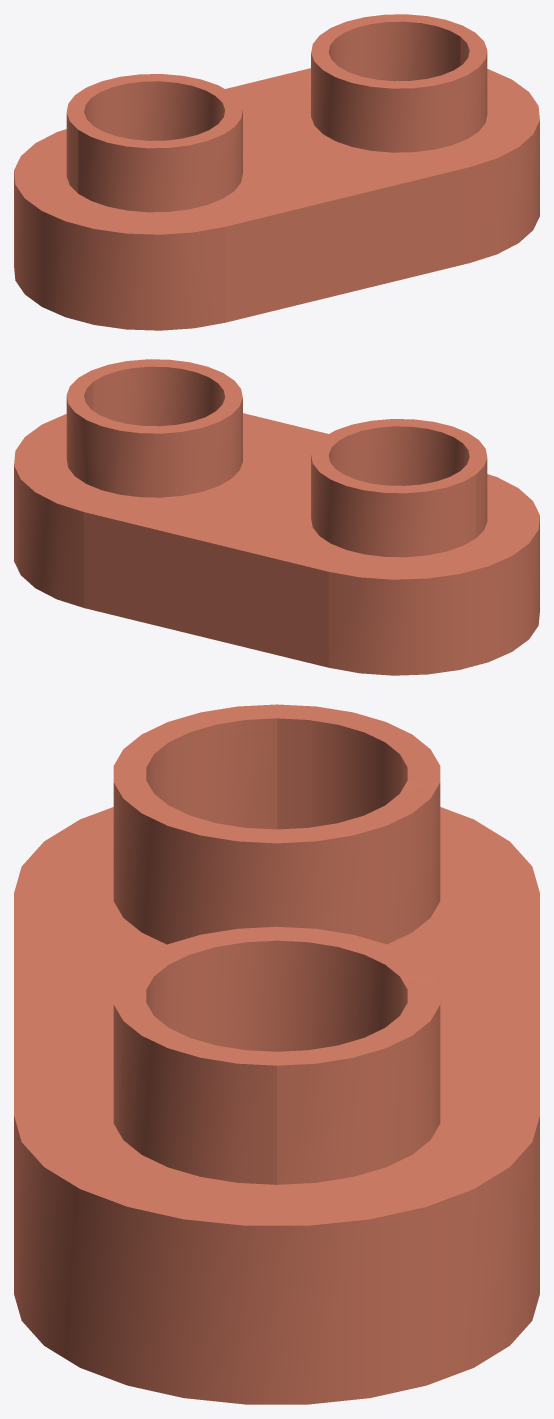
The picture shows the model from 3 angles, top to bottom: view 1: azimuth 30°, elevation 25°; view 2: azimuth 150°, elevation 25°; view 3: azimuth 270°, elevation 25°; orthographic projection. The views are drawn at different scales.
Parts seen in each view (by area): view 1: [pivoted]; view 2: [pivoted]; view 3: [pivoted].
Boxes of the visible parts, x1,y1,x2,y2 form: [pivoted]: (14, 14, 539, 330); [pivoted]: (14, 359, 539, 675); [pivoted]: (14, 704, 539, 1404).
Bounding box in the file's own units: 1.59 × 0.5 × 0.8.
